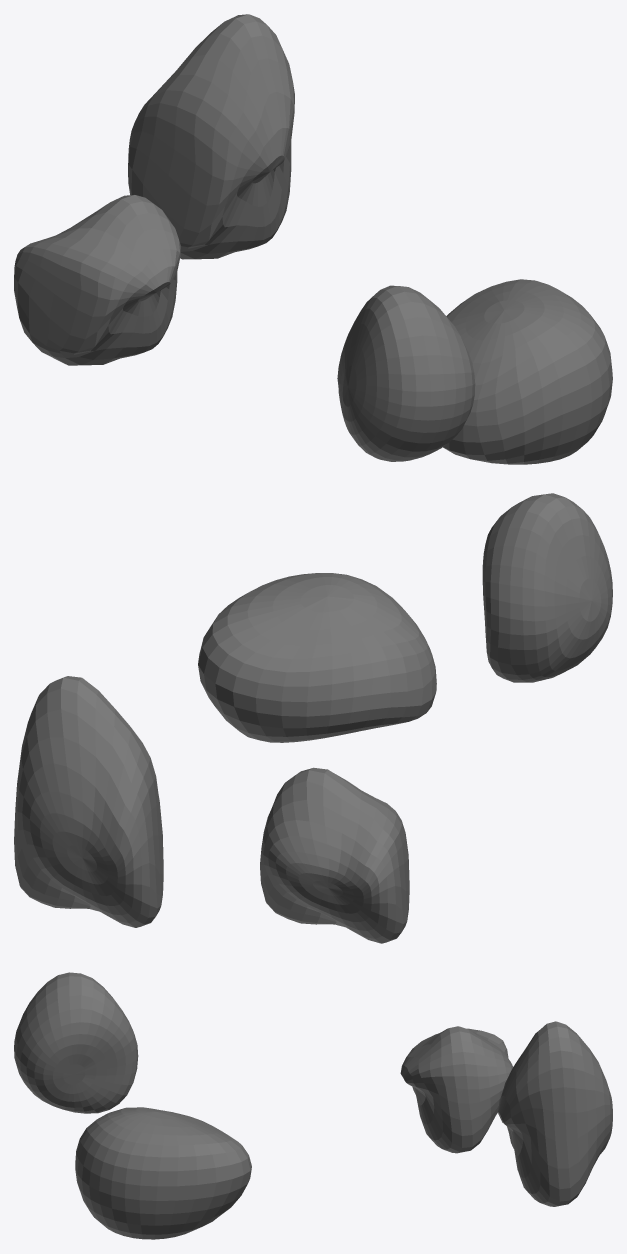
The model's file is rocks-2.gltf.
The picture shows the model from 3 angles, top to bottom: view 1: azimuth 30°, elevation 25°; view 2: azimuth 150°, elevation 25°; view 3: azimuth 270°, elevation 25°; orthographic projection. The views are drawn at different scales.
Parts seen in each view (by area): view 1: Rocks.006; view 2: Rocks.006; view 3: Rocks.006.
Part boxes in pixels (left/top/right/bottom): Rocks.006: left=14, top=14, right=612, bottom=464; Rocks.006: left=14, top=493, right=612, bottom=943; Rocks.006: left=14, top=972, right=612, bottom=1239.
Size of the model in its own units: 0.6731 by 0.4248 by 1.2.
1 material, 1 textured.
